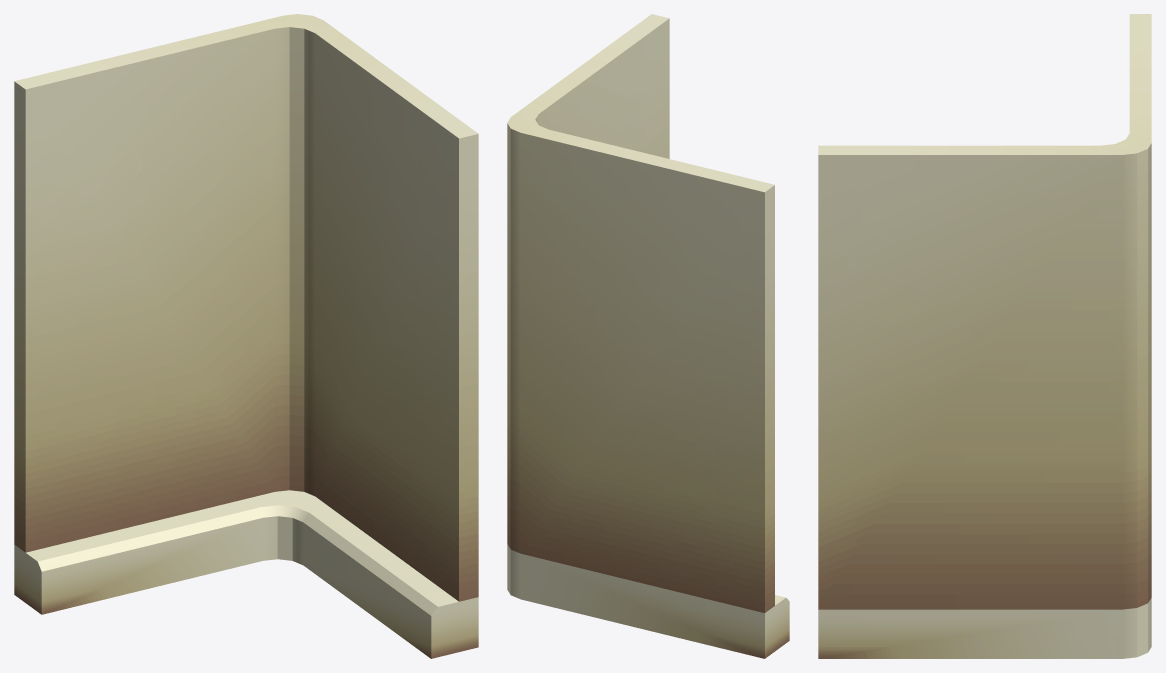
Rendered from Wall_painted_corner_01.fbx.
3 renders of one model, left to right at view 1: azimuth 30°, elevation 25°; view 2: azimuth 150°, elevation 25°; view 3: azimuth 270°, elevation 25°, orthographic. The views are drawn at different scales.
Visible parts, largest first — view 1: Wall_painted_corner_01; view 2: Wall_painted_corner_01; view 3: Wall_painted_corner_01.
Part boxes in pixels (x1,y1,x2,y2): Wall_painted_corner_01: (14,14,478,658); Wall_painted_corner_01: (507,14,789,658); Wall_painted_corner_01: (818,14,1151,658).
Size of the model in its own units: 3 by 5 by 3.
1 material, 1 textured.
